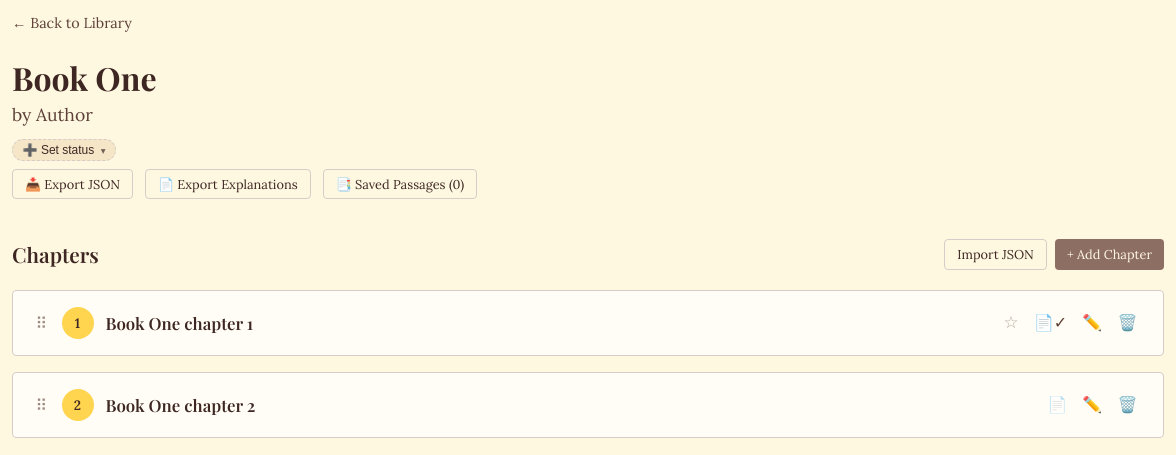
it: favorite chapters › stars a chapter with an explanation from its row; chapters without one have no star
The width and height of the screenshot is (1176, 455).
Click the button titled "Add to Favorite Chapters" at {"x": 1011, "y": 323}, box [998,307,1024,339]
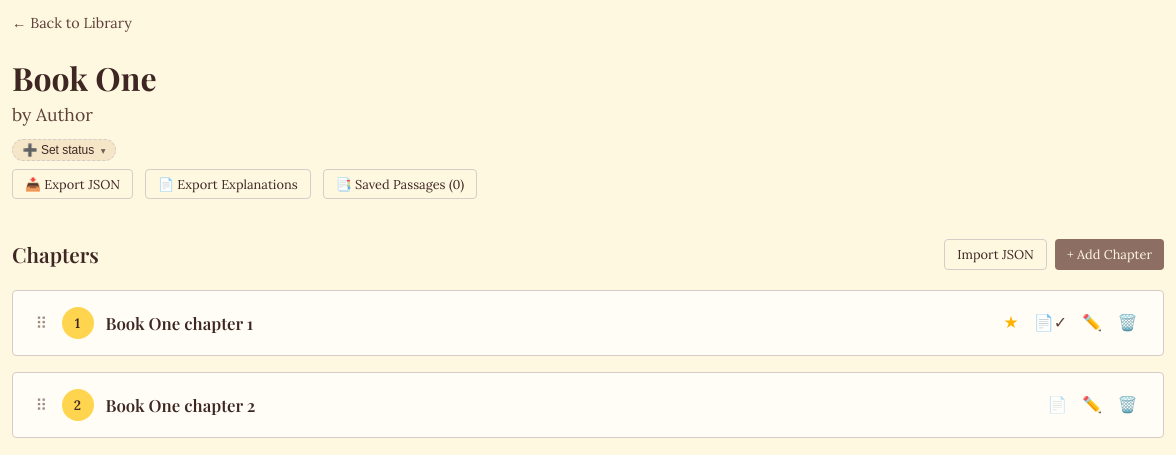
Expected: the button titled "Remove from Favorite Chapters" reads "★"
Click the button titled "Remove from Favorite Chapters" at {"x": 1011, "y": 323}, box [998,307,1024,339]
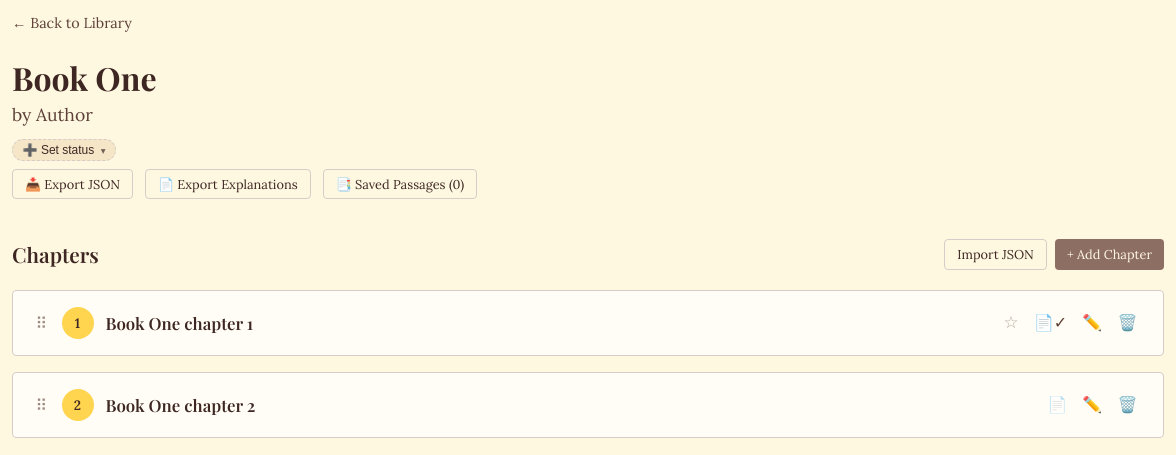
Expected: the button titled "Add to Favorite Chapters" is shown, [998,307,1024,339]
